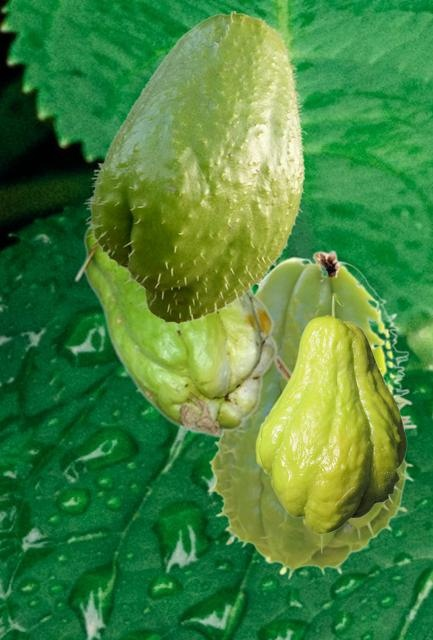sayote: (83, 11, 306, 327), (206, 249, 416, 579), (73, 225, 291, 437), (255, 292, 406, 533)
